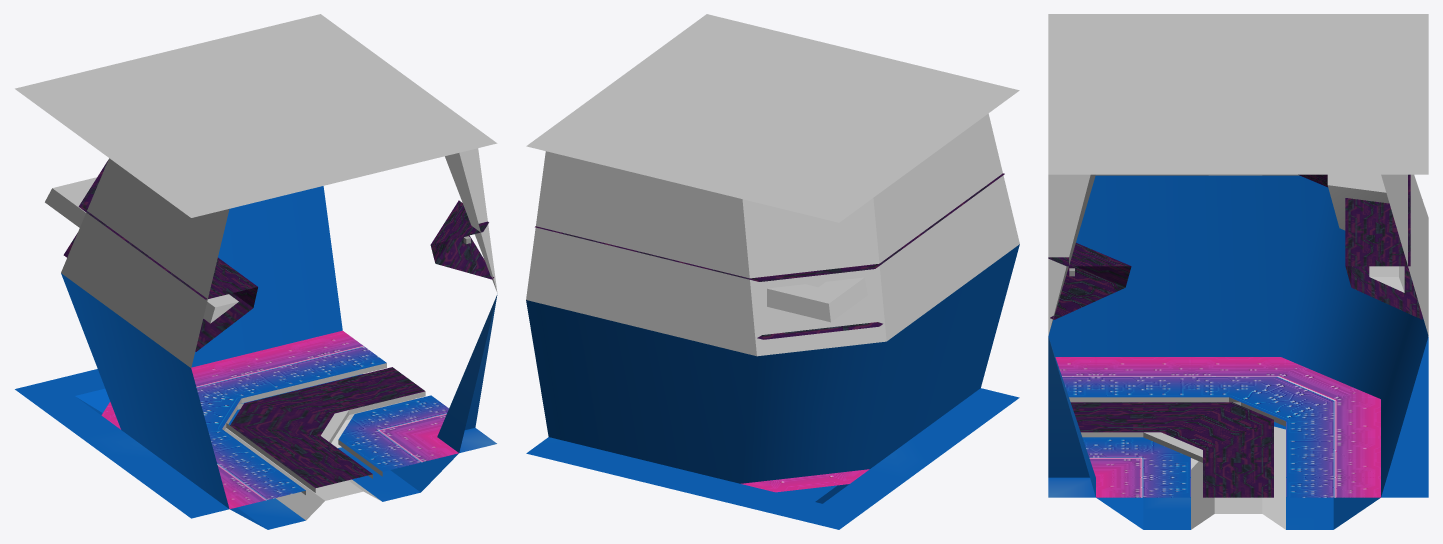
The model's file is cbroad02.FBX.
3 renders of one model, left to right at view 1: azimuth 30°, elevation 25°; view 2: azimuth 150°, elevation 25°; view 3: azimuth 270°, elevation 25°, orthographic. The views are drawn at different scales.
Visible parts, largest first — view 1: tower4, tower2, tower3, glass1, cbroad02, glass2, glass3, nodule1, glass5, glass4; view 2: tower3, tower2, tower4, cbroad02, nodule1, glass3, glass1; view 3: tower4, tower2, glass1, glass2, cbroad02, glass3, tower3, nodule1, tower1, glass5, glass4.
Boxes of the visible parts, box(x1,y1,x2,y2) form: tower4: box(15, 14, 497, 217); tower2: box(61, 186, 497, 508); tower3: box(61, 148, 497, 367); glass1: box(101, 330, 458, 508); cbroad02: box(15, 369, 496, 529); glass2: box(230, 367, 424, 487); glass3: box(63, 160, 493, 351); nodule1: box(45, 177, 415, 520); glass5: box(222, 363, 386, 494); glass4: box(226, 391, 425, 492); tower3: box(526, 113, 1019, 356); tower2: box(526, 244, 1019, 483); tower4: box(526, 14, 1019, 222); cbroad02: box(526, 388, 1019, 529); nodule1: box(767, 277, 867, 322); glass3: box(535, 173, 1004, 339); glass1: box(741, 469, 869, 492); tower4: box(1048, 14, 1428, 174); tower2: box(1048, 175, 1428, 496); glass1: box(1055, 357, 1380, 497); glass2: box(1070, 402, 1273, 497); cbroad02: box(1048, 337, 1428, 529); glass3: box(1048, 174, 1422, 319); tower3: box(1048, 174, 1428, 335); nodule1: box(1191, 266, 1404, 529); tower1: box(1208, 174, 1389, 230); glass5: box(1069, 397, 1285, 426); glass4: box(1081, 402, 1240, 462).
Size of the model in its own units: 64 by 66 by 64.
